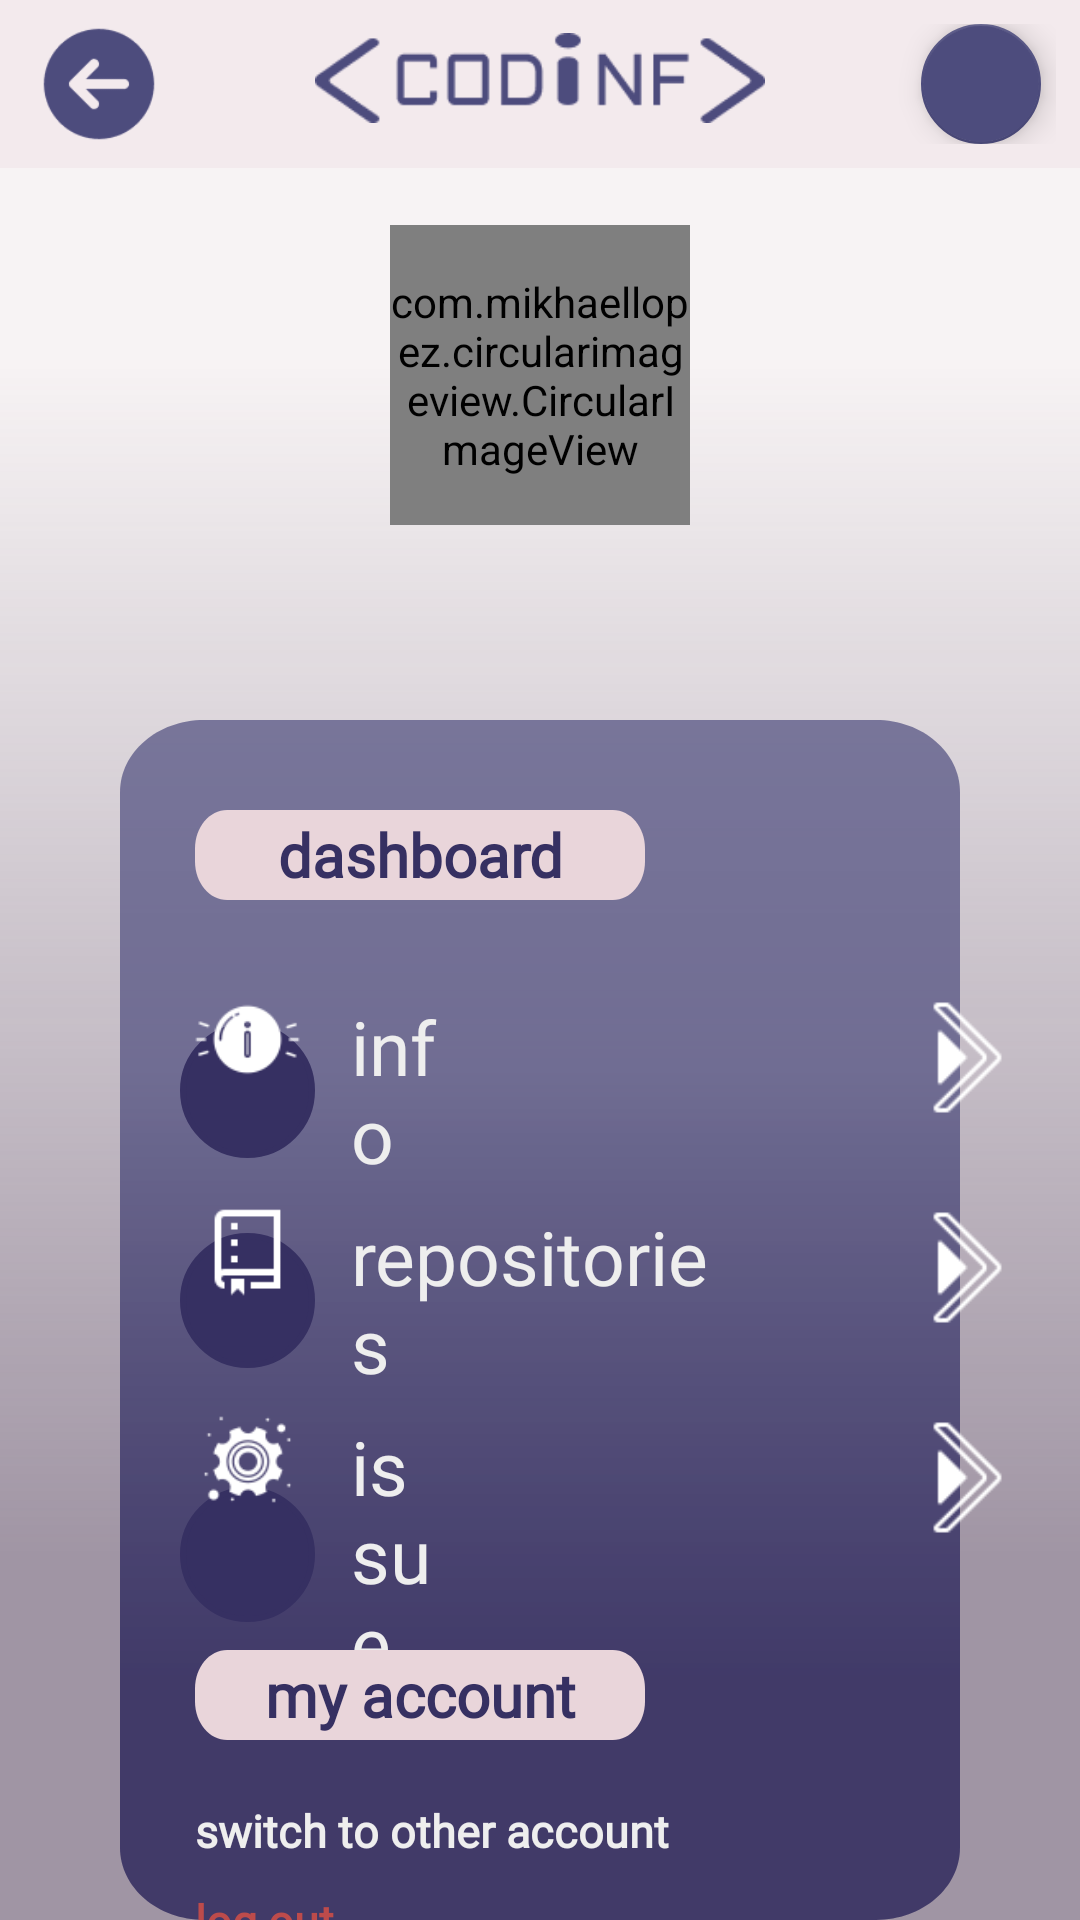

Point at icon controls on the screen. Image size 1080*1920, points as [x,y].
back: [99,84]
forward: [967,1057], [967,1267], [967,1477]
